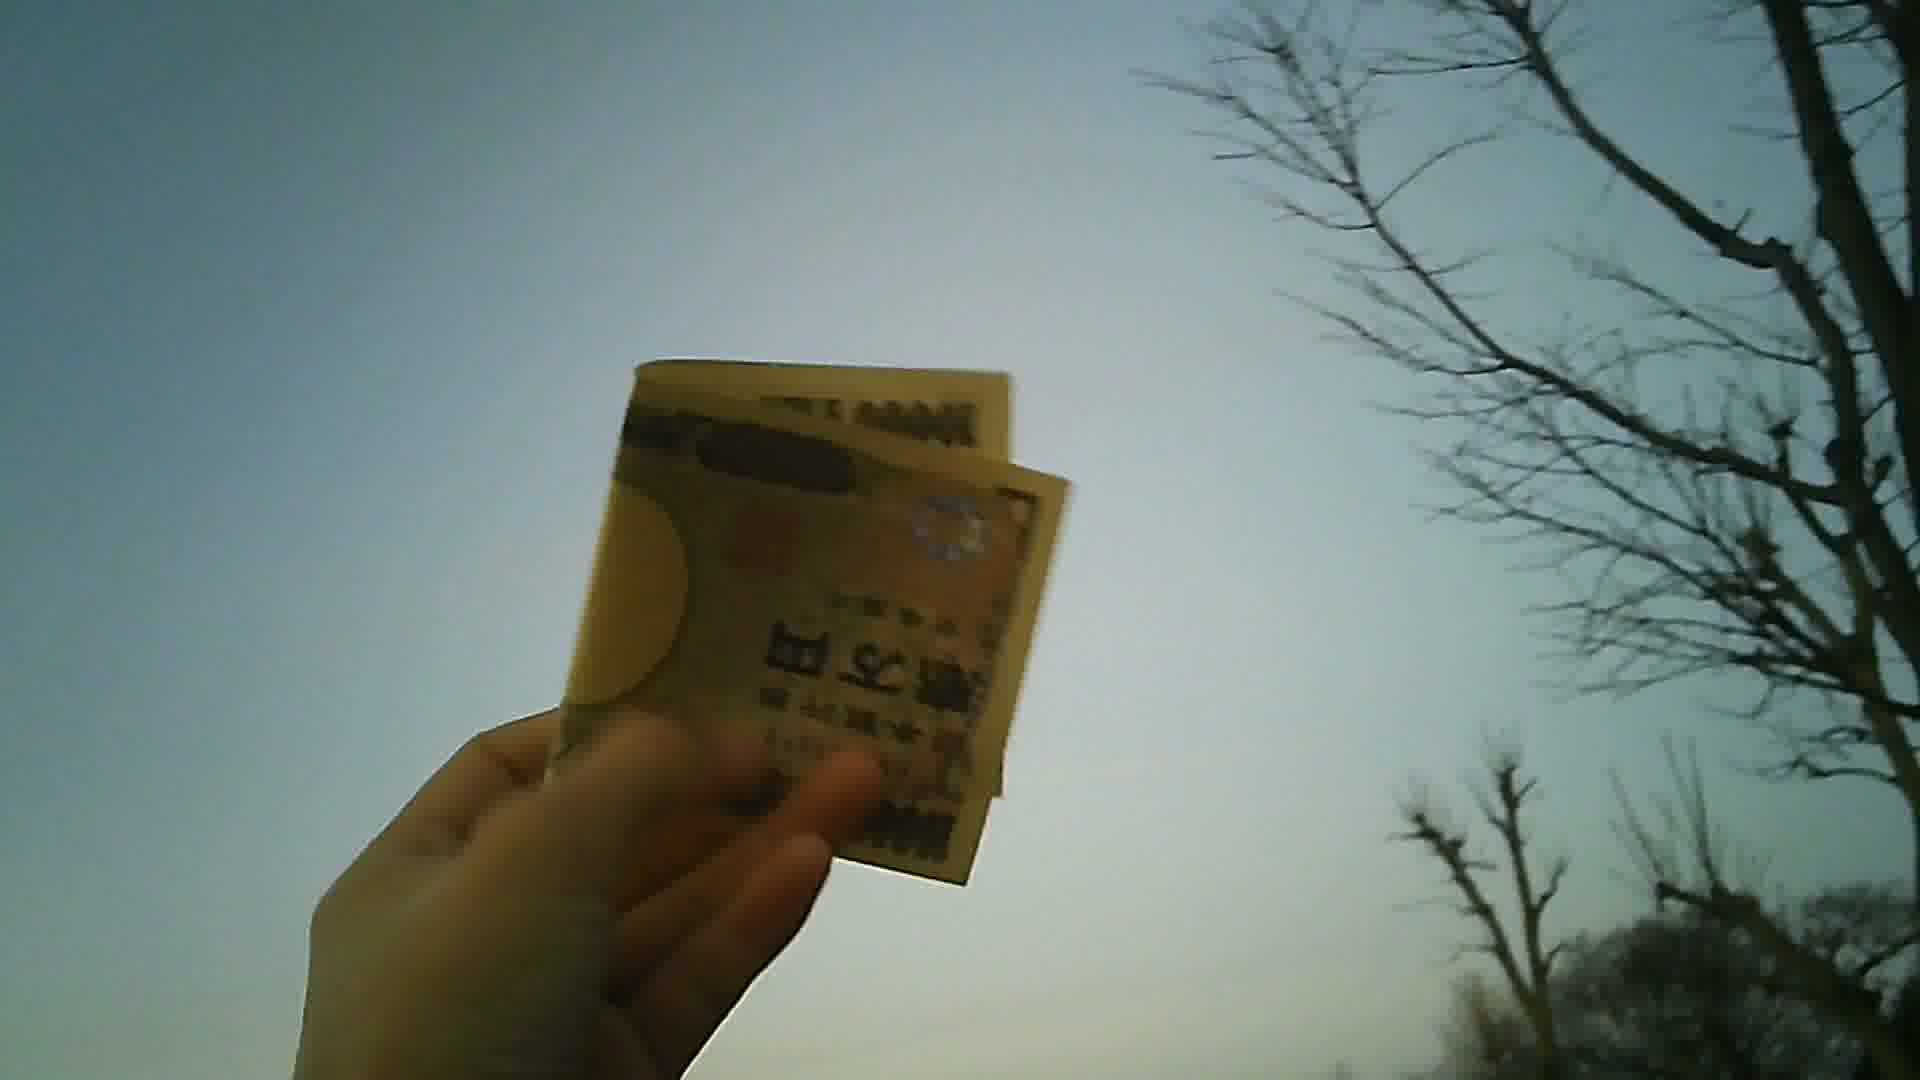10,000 Yen: (560, 327, 1065, 905)
